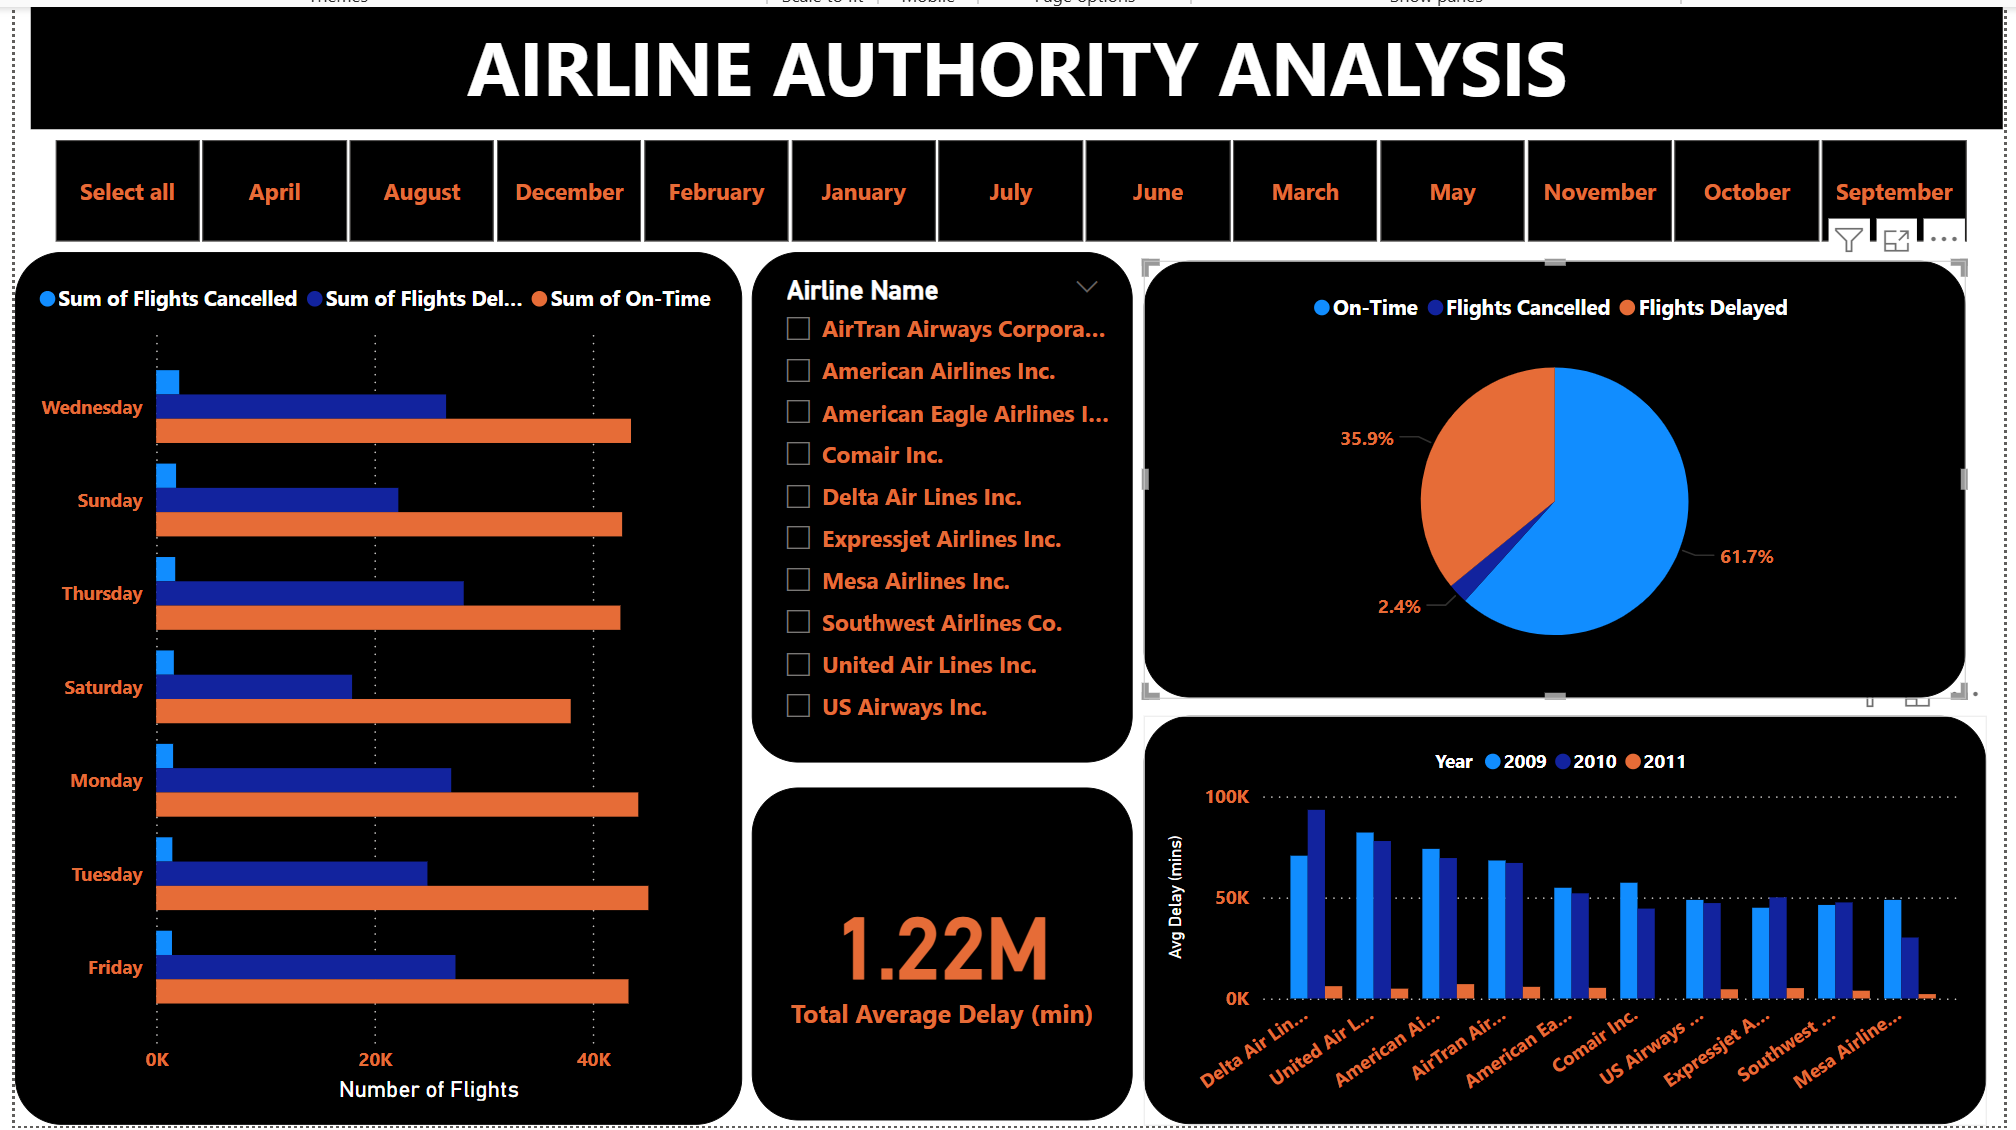

What the dashboard file says about the page in this screenshot:
{"tool":"powerbi","page":{"name":"Page 1","canvas":[1280,720],"ordinal":0},"visuals":[{"type":"textbox","box":[10.4,0,1269.4,78.8],"z":0},{"type":"slicer","fields":{"Values":["Sheet1.Month"]},"box":[0,78.8,1279.8,78.8],"z":1000},{"type":"clusteredBarChart","fields":{"Category":["Sheet1.Day of Week"],"Y":["Sum(Sheet1.Flights Cancelled)","Sum(Sheet1.Flights Delayed)","Sum(Sheet1.On-Time)"]},"box":[0,157.6,468.2,561.9],"z":2000},{"type":"slicer","fields":{"Values":["Sheet1.Airline Name"]},"box":[474.2,157.6,245.3,328.5],"z":3000},{"type":"pieChart","fields":{"Y":["Sum(Sheet1.On-Time)","Sum(Sheet1.Flights Cancelled)","Sum(Sheet1.Flights Delayed)"]},"box":[726.8,163.5,529.2,280.9],"z":4000},{"type":"clusteredColumnChart","fields":{"Category":["Sheet1.Airline Name"],"Y":["Sum(Sheet1.Avg Delay (min))"],"Series":["Sheet1.Year"]},"box":[726.8,456.3,542.5,263.1],"z":4001},{"type":"card","fields":{"Values":["Sum(Sheet1.Avg Delay (min))"]},"box":[474.2,502.4,245.3,214],"z":4002}]}

Visuals, with their boxes in screenshot pixels (x1, y1, x2, y2):
textbox: <bbox>27, 5, 1989, 127</bbox>
slicer - Sheet1.Month: <bbox>10, 127, 1989, 249</bbox>
clusteredBarChart - Sheet1.Day of Week x Sum(Sheet1.Flights Cancelled): <bbox>10, 249, 734, 1118</bbox>
slicer - Sheet1.Airline Name: <bbox>744, 249, 1123, 757</bbox>
pieChart - Sum(Sheet1.On-Time) x Sum(Sheet1.Flights Cancelled): <bbox>1134, 258, 1952, 692</bbox>
clusteredColumnChart - Sheet1.Airline Name x Sum(Sheet1.Avg Delay (min)): <bbox>1134, 711, 1973, 1117</bbox>
card - Sum(Sheet1.Avg Delay (min)): <bbox>744, 782, 1123, 1113</bbox>
